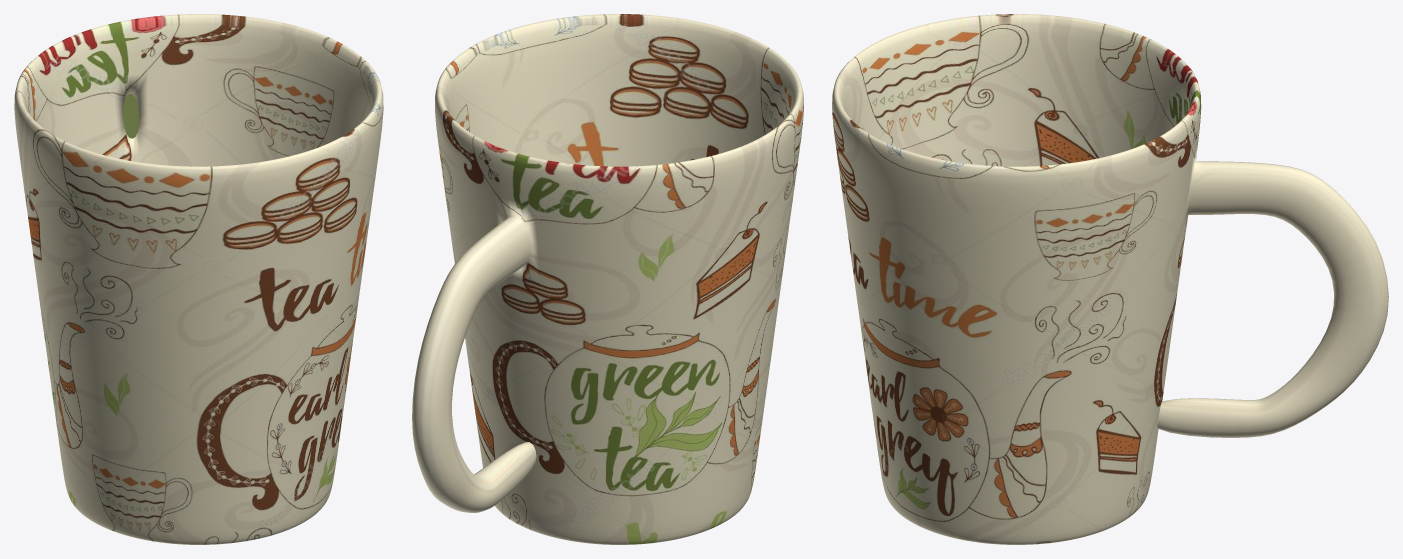
Rendered from Mug.fbx.
The picture shows the model from 3 angles, left to right: view 1: azimuth 30°, elevation 25°; view 2: azimuth 150°, elevation 25°; view 3: azimuth 270°, elevation 25°; orthographic projection.
Visible parts, largest first — view 1: Cylinder; view 2: Cylinder; view 3: Cylinder.
Boxes of the visible parts, x1,y1,x2,y2 form: Cylinder: (14, 14, 383, 544); Cylinder: (412, 14, 803, 544); Cylinder: (832, 14, 1388, 544).
Bounding box in the file's own units: 195 × 234 × 294.
Materials: 1 (1 with a texture image).
